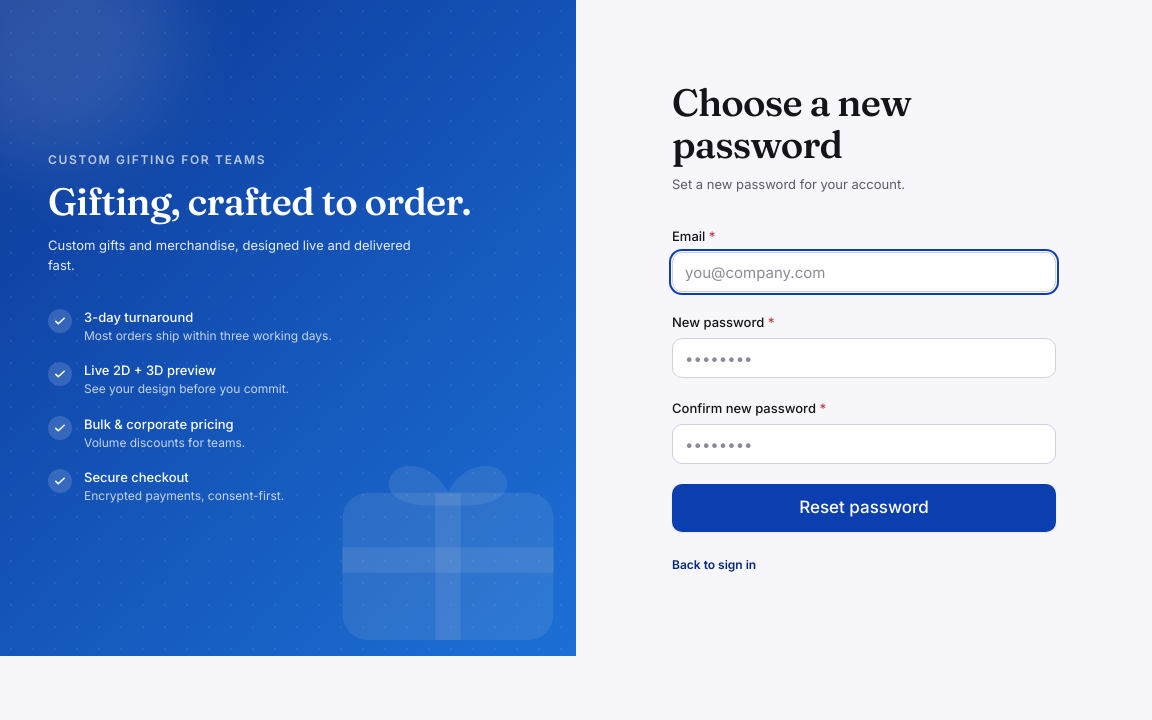
it: shows field errors from an invalid token response
In the field labelled "Email *": (864, 272) [672, 252, 1056, 292], type "x@acme.example"
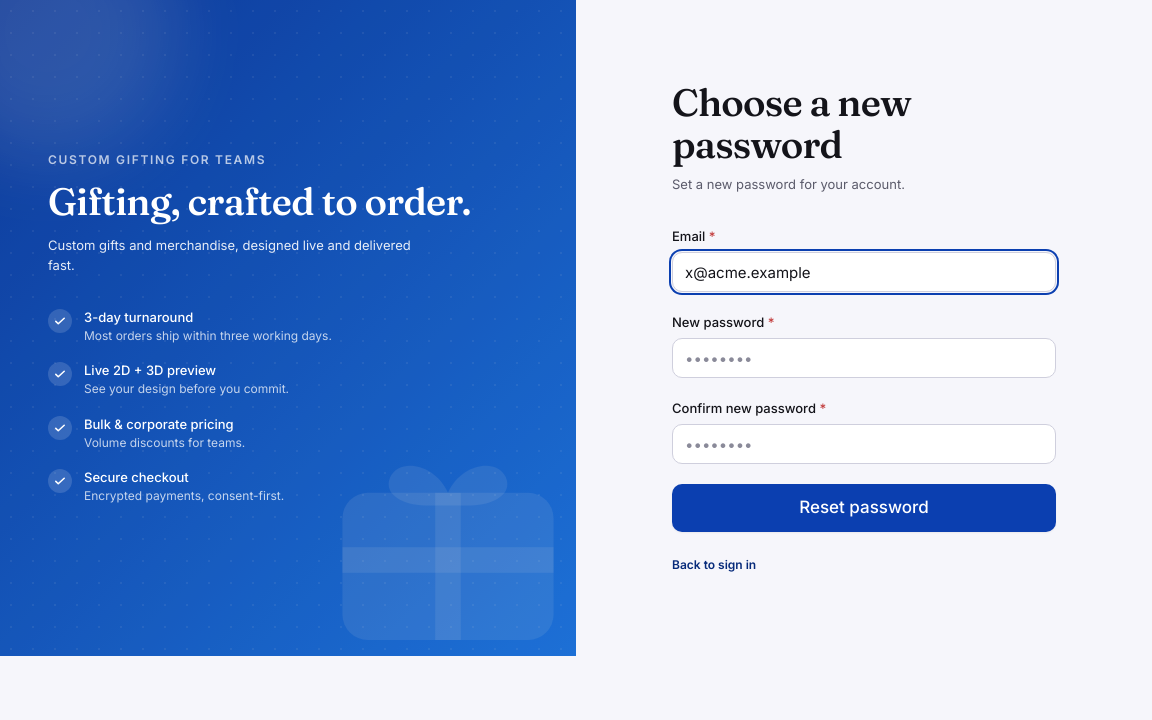
In the password field labelled "New password *": (864, 358) [672, 338, 1056, 378], type "brand-new-password-9"
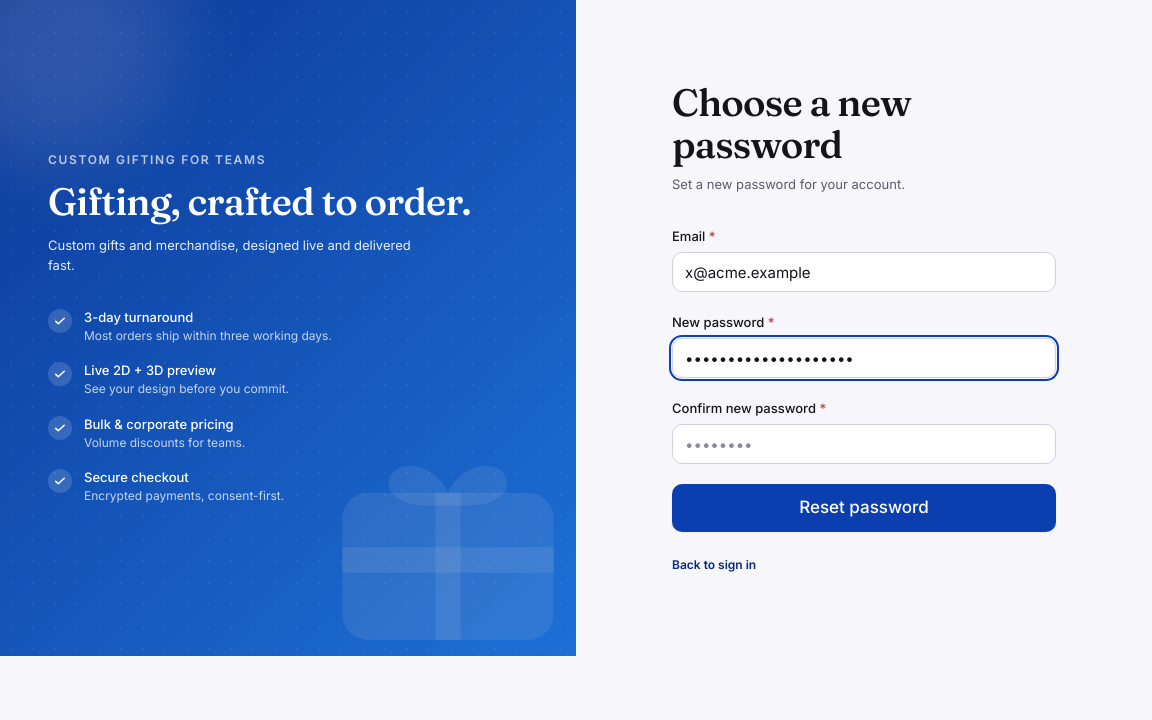
In the password field labelled "Confirm new password *": (864, 444) [672, 424, 1056, 464], type "brand-new-password-9"
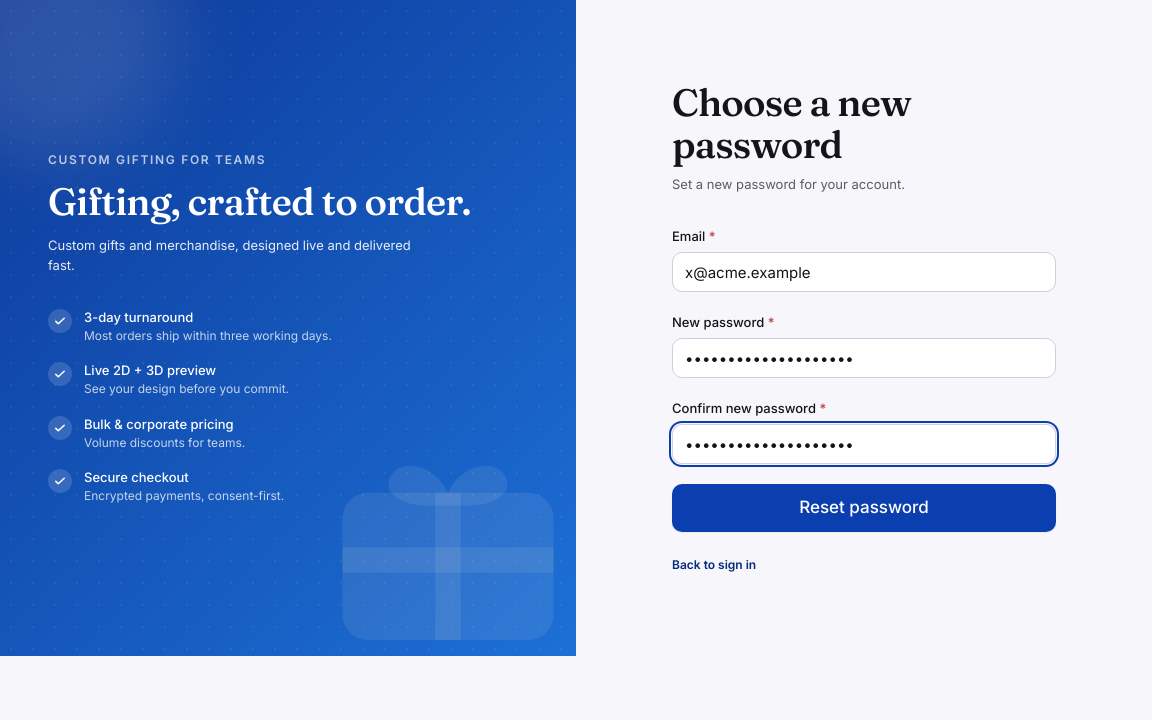
Click the button "Reset password": (864, 508) [672, 484, 1056, 532]
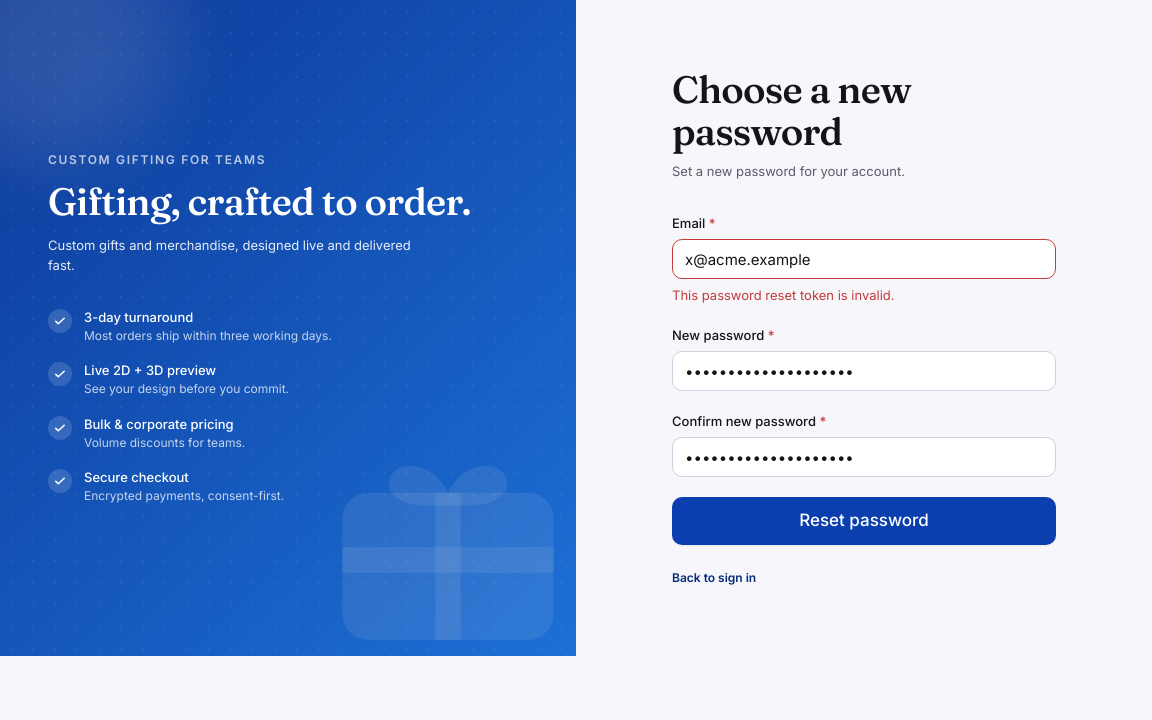
Result: the text "This password reset token is invalid." is shown at [672, 287, 894, 303]
